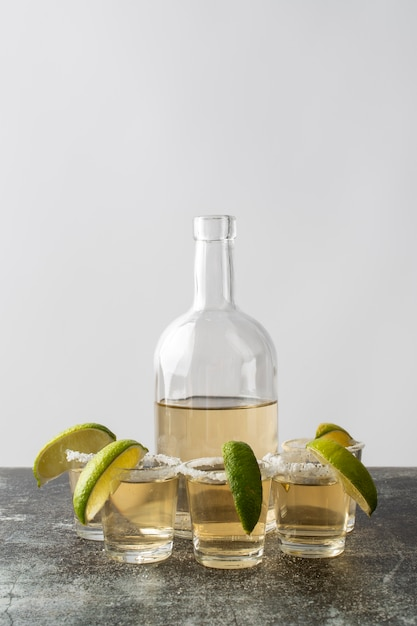alcohol: (157, 209, 281, 524), (265, 433, 377, 558), (71, 442, 183, 562), (179, 442, 267, 573), (33, 423, 129, 531), (291, 421, 370, 489)
